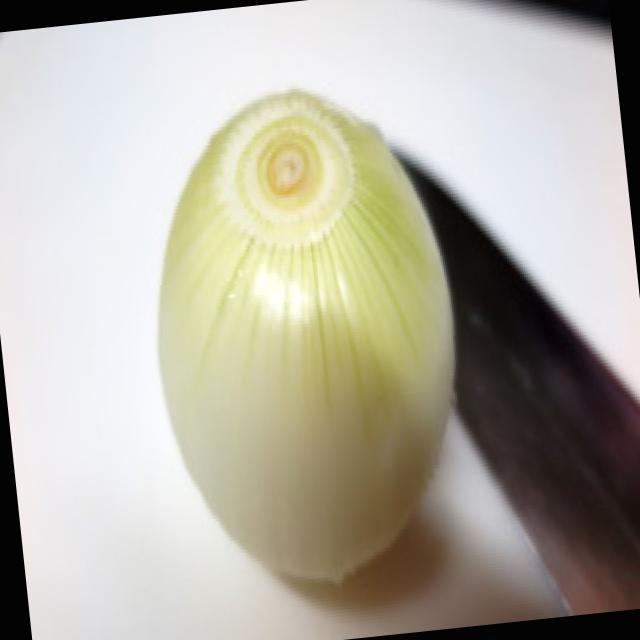onion: (113, 41, 514, 640)
